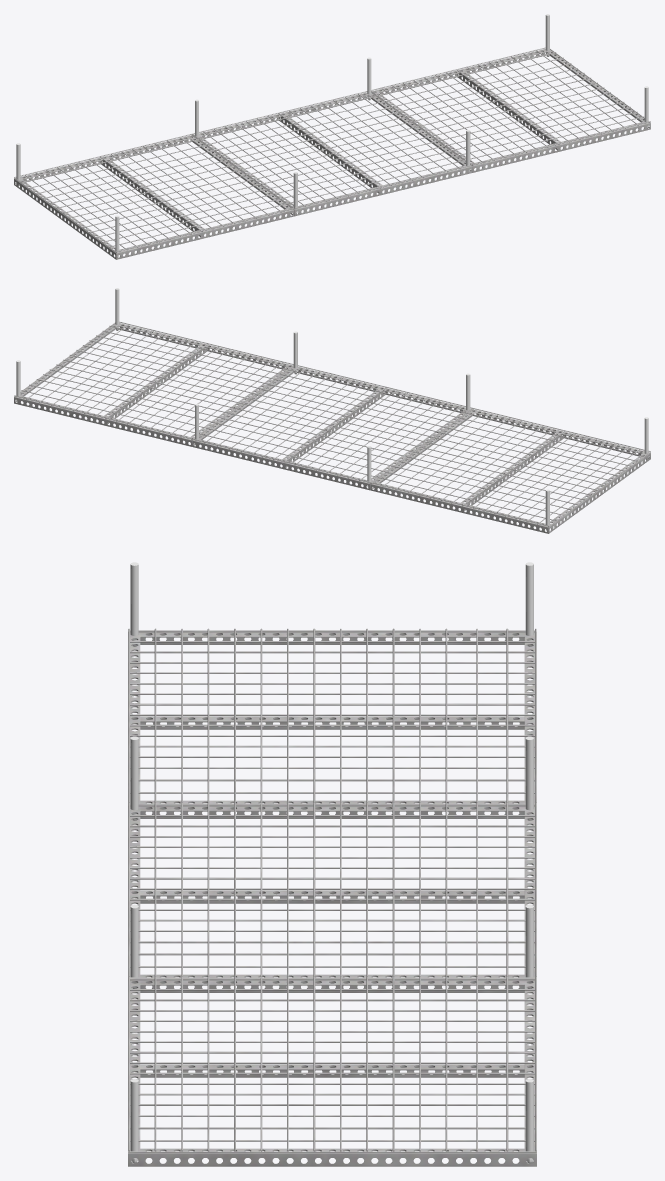
The picture shows the model from 3 angles, top to bottom: view 1: azimuth 30°, elevation 25°; view 2: azimuth 150°, elevation 25°; view 3: azimuth 270°, elevation 25°; orthographic projection. The views are drawn at different scales.
Visible parts, largest first — view 1: Grill003, Rods003; view 2: Grill003, Rods003; view 3: Grill003, Rods003.
Part boxes in pixels (<box>): Grill003: <box>14,47,650,259</box>; Rods003: <box>16,14,648,257</box>; Grill003: <box>14,321,650,533</box>; Rods003: <box>16,288,648,531</box>; Grill003: <box>128,628,536,1166</box>; Rods003: <box>130,562,533,1163</box>.
Size of the model in its own units: 93.35 by 6.96 by 30.94.
2 materials, 2 textured.
